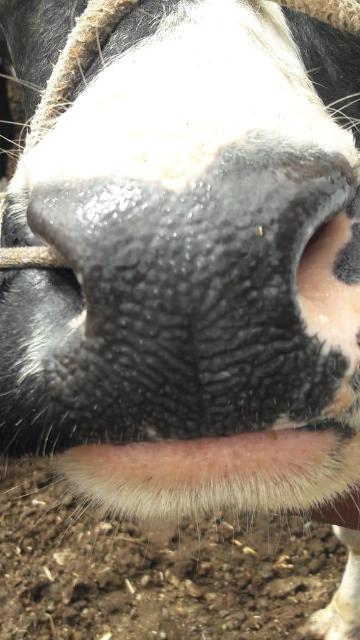Muzzle: (87, 178, 302, 428)
